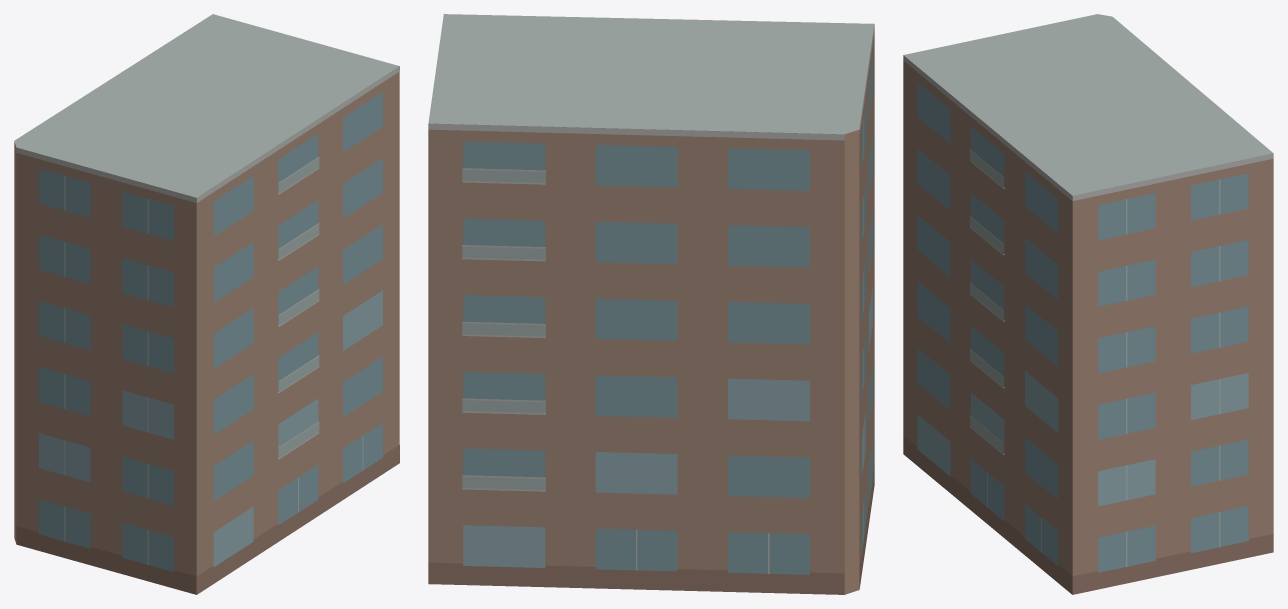
File: survey-upis-32933351.glb
3 views of the same model, side by side, from view 1: azimuth 30°, elevation 25°; view 2: azimuth 150°, elevation 25°; view 3: azimuth 270°, elevation 25° (orthographic). The views are drawn at different scales.
Parts seen in each view (by area): view 1: survey-upis-32933351.tmp; view 2: survey-upis-32933351.tmp; view 3: survey-upis-32933351.tmp.
Part boxes in pixels (x1=…): survey-upis-32933351.tmp: x1=14, y1=14, x2=399, y2=594; survey-upis-32933351.tmp: x1=428, y1=14, x2=874, y2=594; survey-upis-32933351.tmp: x1=903, y1=14, x2=1273, y2=594.
Bounding box in the file's own units: 17.9 × 18.3 × 15.4.
